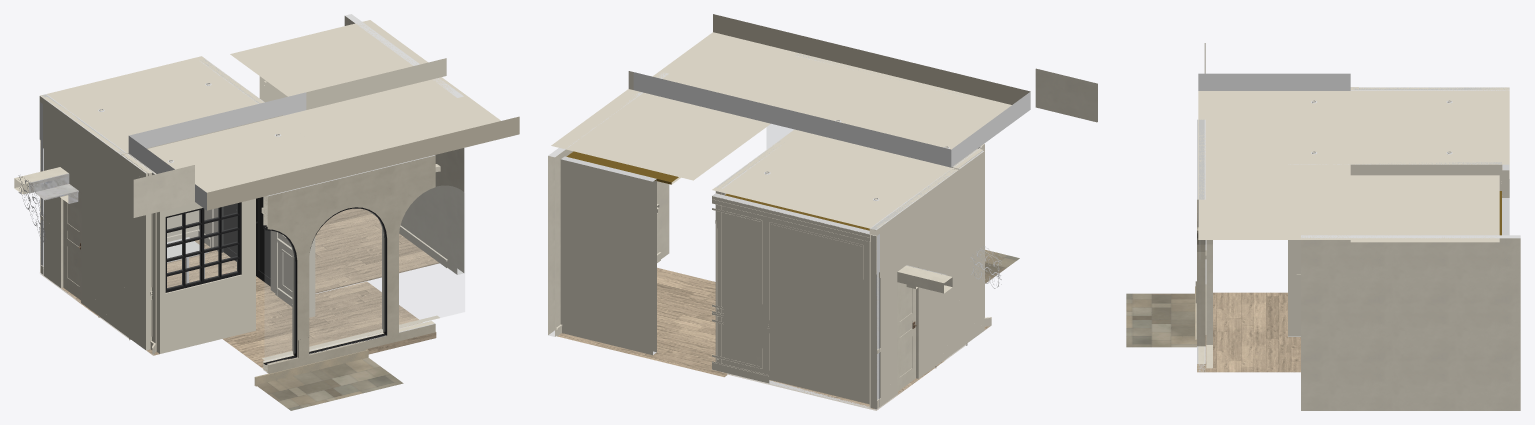
Rendered from office-west-41d970741485.glb.
3 views of the same model, side by side, from view 1: azimuth 30°, elevation 25°; view 2: azimuth 150°, elevation 25°; view 3: azimuth 270°, elevation 25° (orthographic). The views are drawn at different scales.
Parts seen in each view (by area): view 1: office-west-look-dbd60ee5c3733ed6, office-west-6a051330000fbca1, office-west-look-c9e78b9ec1bb39cd, office-west-look-2575515a05775d9e, office-west-2575515a05775d9e, office-west-look-c02a36d0521470a9, office-west-a822d30aa9e2c55a, office-west-look-5cbcc744e6f960f3, office-west-look-c374268555806af8, office-west-look-3b0077416469e01b, office-west-look-6a1144f4e43410bb, office-west-dbd60ee5c3733ed6 (+21 smaller); view 2: office-west-look-dbd60ee5c3733ed6, office-west-19647d6da46c2b80, office-west-6a051330000fbca1, office-west-look-19647d6da46c2b80, office-west-2575515a05775d9e, office-west-look-2575515a05775d9e, office-west-look-3b0077416469e01b, office-west-look-6a1144f4e43410bb, office-west-look-34525a54e63b733b, office-west-dbd60ee5c3733ed6, office-west-80d276f58a4dc5cb, office-west-72f8f5982ac3dc36 (+6 smaller); view 3: office-west-look-6a1144f4e43410bb, office-west-look-dbd60ee5c3733ed6, office-west-2575515a05775d9e, office-west-look-2575515a05775d9e, office-west-look-c374268555806af8, office-west-dbd60ee5c3733ed6, office-west-look-982408871810a50e, office-west-72f8f5982ac3dc36, office-west-look-c9e78b9ec1bb39cd, office-west-0811b6b476584948, office-west-look-e54cb06e326b7f4f, office-west-6a051330000fbca1 (+2 smaller).
Part boxes in pixels (x1,y1,x2,y2): office-west-look-dbd60ee5c3733ed6: (128, 77, 519, 210); office-west-6a051330000fbca1: (39, 94, 156, 351); office-west-look-c9e78b9ec1bb39cd: (263, 155, 435, 372); office-west-look-2575515a05775d9e: (230, 20, 446, 109); office-west-2575515a05775d9e: (40, 56, 282, 155); office-west-look-c02a36d0521470a9: (309, 209, 385, 349); office-west-a822d30aa9e2c55a: (156, 139, 307, 353); office-west-look-5cbcc744e6f960f3: (399, 186, 464, 327); office-west-look-c374268555806af8: (223, 281, 436, 370); office-west-look-3b0077416469e01b: (315, 208, 439, 293); office-west-look-6a1144f4e43410bb: (344, 14, 464, 274); office-west-dbd60ee5c3733ed6: (128, 116, 314, 173); office-west-look-dbd60ee5c3733ed6: (633, 14, 1030, 166); office-west-19647d6da46c2b80: (712, 193, 869, 407); office-west-6a051330000fbca1: (869, 146, 984, 408); office-west-look-19647d6da46c2b80: (560, 156, 656, 355); office-west-2575515a05775d9e: (712, 129, 958, 228); office-west-look-2575515a05775d9e: (551, 71, 770, 180); office-west-look-3b0077416469e01b: (557, 267, 727, 377); office-west-look-6a1144f4e43410bb: (548, 72, 669, 336); office-west-look-34525a54e63b733b: (1035, 68, 1097, 122); office-west-dbd60ee5c3733ed6: (794, 105, 983, 167); office-west-80d276f58a4dc5cb: (898, 282, 915, 391); office-west-72f8f5982ac3dc36: (715, 141, 784, 363); office-west-look-6a1144f4e43410bb: (1301, 235, 1520, 410); office-west-look-dbd60ee5c3733ed6: (1198, 73, 1350, 239); office-west-2575515a05775d9e: (1350, 87, 1509, 164); office-west-look-2575515a05775d9e: (1350, 175, 1499, 242); office-west-look-c374268555806af8: (1197, 292, 1300, 372); office-west-dbd60ee5c3733ed6: (1288, 90, 1350, 164); office-west-look-982408871810a50e: (1126, 293, 1196, 347); office-west-72f8f5982ac3dc36: (1288, 162, 1502, 336); office-west-look-c9e78b9ec1bb39cd: (1197, 119, 1205, 371); office-west-0811b6b476584948: (1350, 164, 1502, 171); office-west-look-e54cb06e326b7f4f: (1206, 240, 1212, 368); office-west-6a051330000fbca1: (1350, 87, 1509, 197).
Bounding box in the file's own units: 6.87 × 3.92 × 6.21.
Materials: 32 (10 with a texture image).
